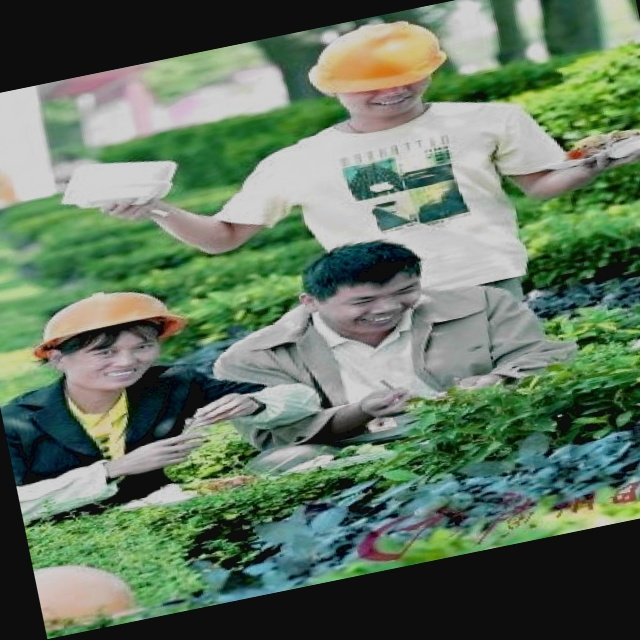Con_Casco: (34, 279, 198, 399)
Sin_Casco_Mascarrilla: (292, 230, 436, 344)
